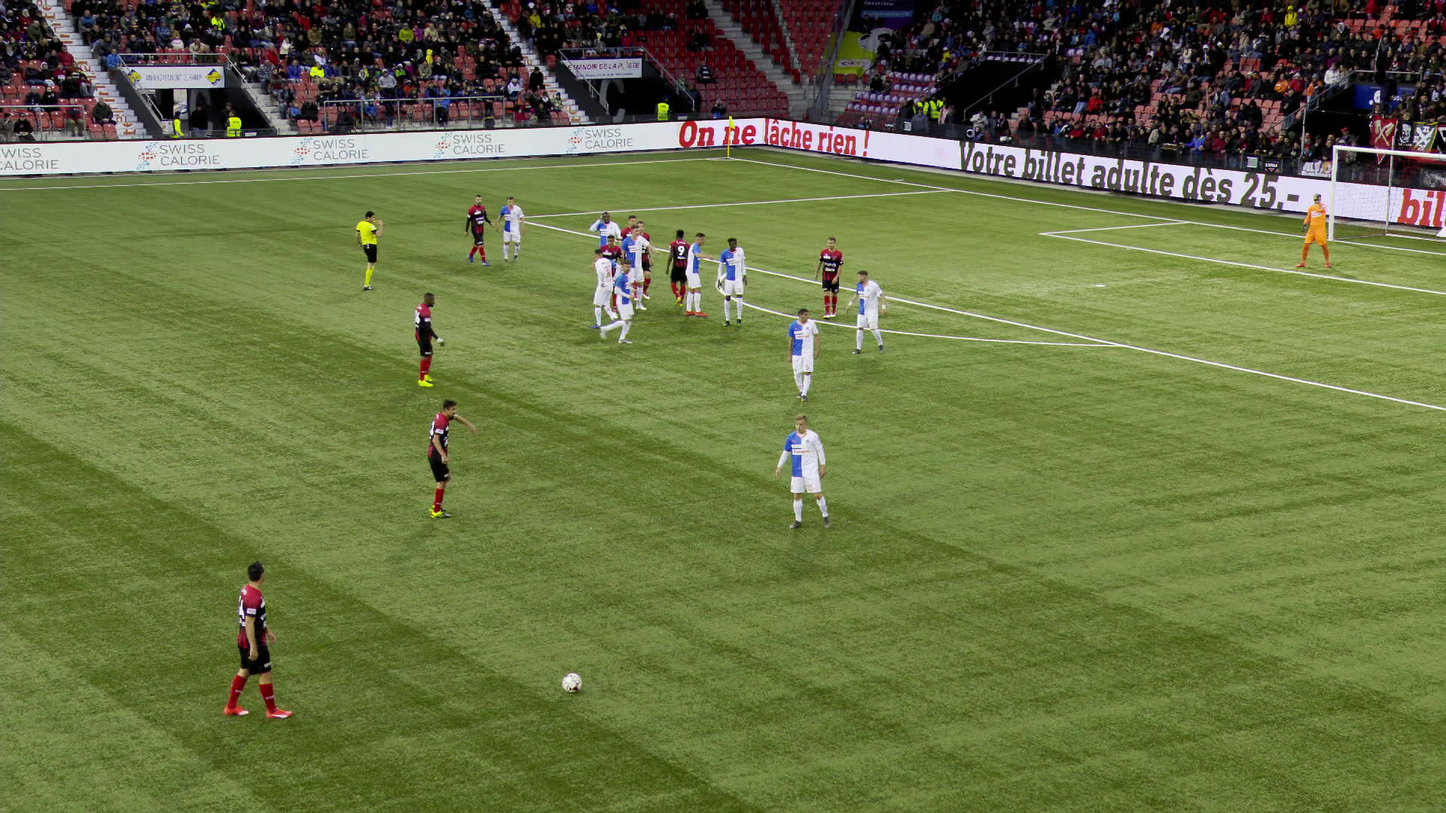ball: (560, 671, 584, 693)
player: (221, 560, 293, 720), (773, 413, 832, 529), (422, 398, 476, 522), (593, 254, 636, 345), (784, 306, 820, 404), (847, 270, 886, 356), (410, 290, 444, 388), (615, 222, 650, 313), (714, 236, 747, 329), (1295, 190, 1331, 269), (811, 234, 843, 320), (682, 230, 711, 318), (462, 190, 493, 267), (587, 212, 619, 284), (592, 247, 620, 327), (493, 195, 524, 263), (663, 230, 688, 309), (596, 233, 622, 304), (632, 219, 654, 302), (616, 214, 636, 303)
referee: (352, 209, 384, 293)
